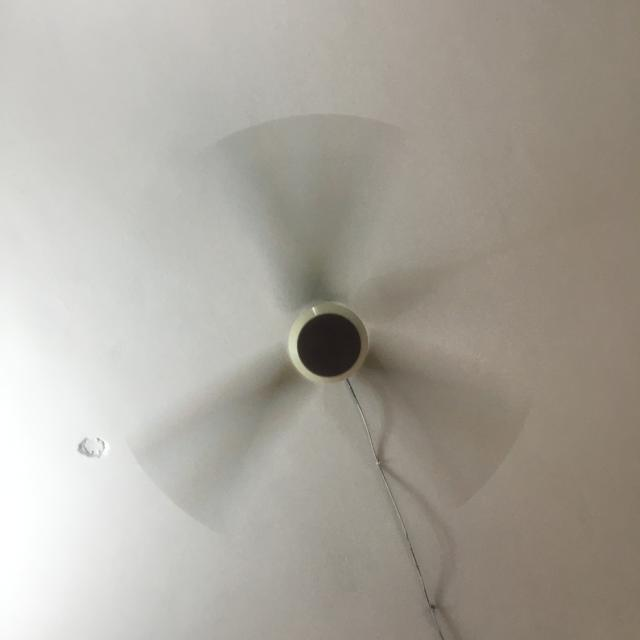on: (122, 105, 544, 548)
